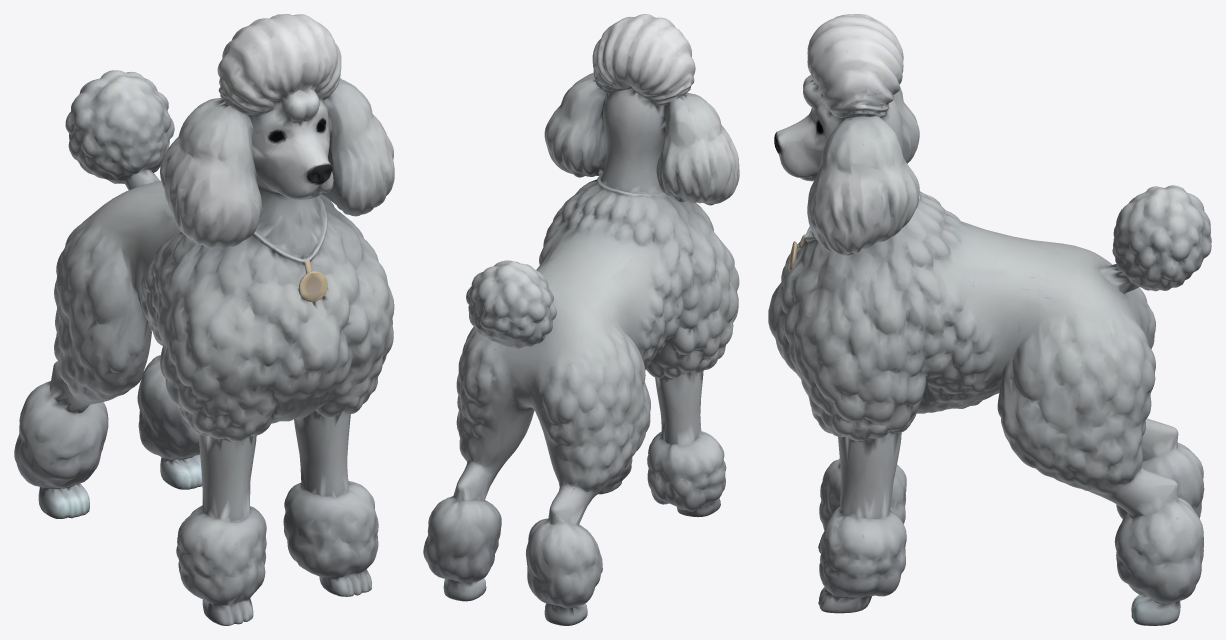
File: detail_6.glb
The picture shows the model from 3 angles, left to right: view 1: azimuth 30°, elevation 25°; view 2: azimuth 150°, elevation 25°; view 3: azimuth 270°, elevation 25°; orthographic projection. The views are drawn at different scales.
Parts seen in each view (by area): view 1: Mesh_0; view 2: Mesh_0; view 3: Mesh_0.
Boxes of the visible parts, <box> form: Mesh_0: <box>14,14,394,625</box>; Mesh_0: <box>423,14,739,625</box>; Mesh_0: <box>768,14,1211,625</box>.
Bounding box in the file's own units: 0.3792 × 0.999 × 0.7083.
Materials: 1 (1 with a texture image).
